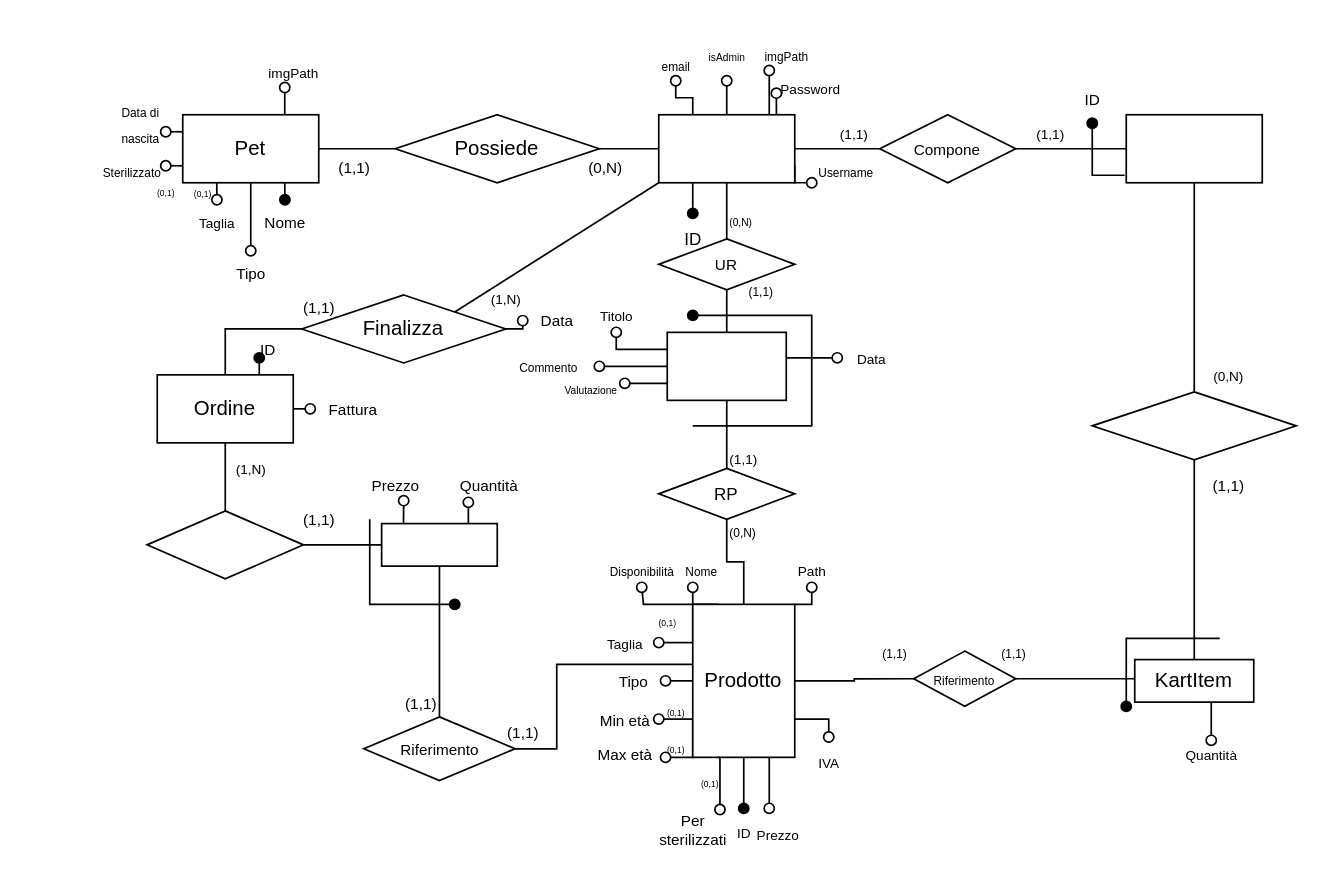
This 1326x893 diagram has some shape labels left out. The centre of each missing label's shape, as x and y in pixels:
"Carrello" belongs at [1193,148].
"Composto" belongs at [1193,425].
"Contiene" belongs at [224,544].
"OrderItem" belongs at [438,544].
"Recensione" belongs at [726,365].
"Utente" belongs at [726,148].
